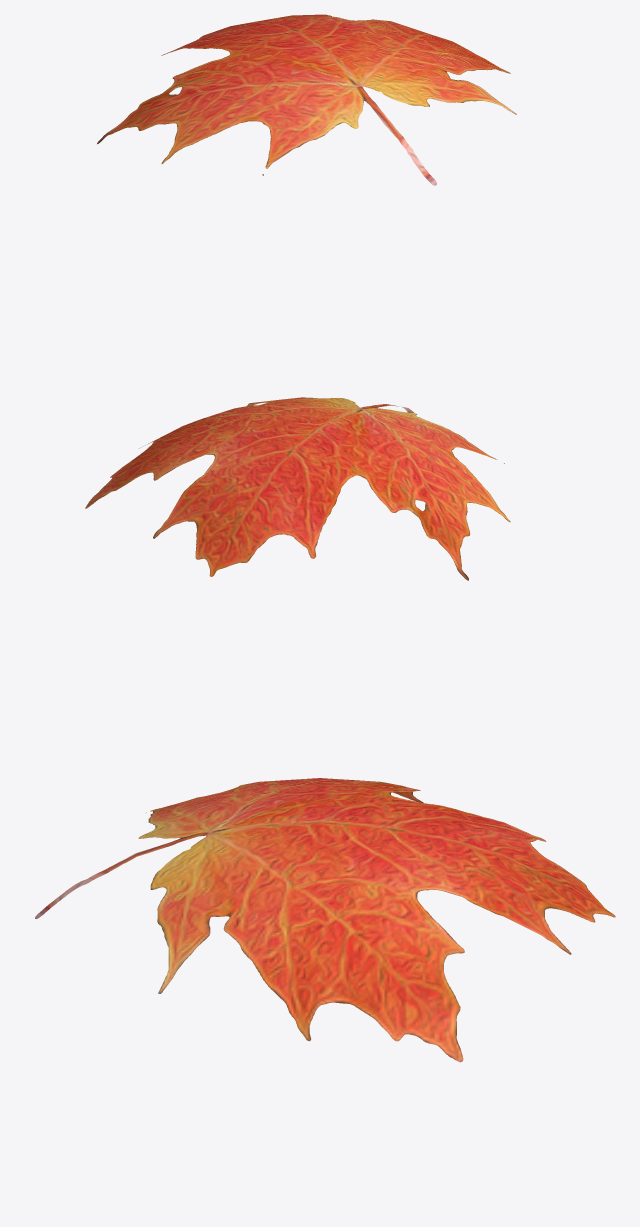
File: single_leaf.fbx
The picture shows the model from 3 angles, top to bottom: view 1: azimuth 30°, elevation 25°; view 2: azimuth 150°, elevation 25°; view 3: azimuth 270°, elevation 25°; orthographic projection. The views are drawn at different scales.
Visible parts, largest first — view 1: leaf_mesh; view 2: leaf_mesh; view 3: leaf_mesh.
Boxes of the visible parts, box(x1,y1,x2,y2) form: leaf_mesh: box(97, 14, 516, 185); leaf_mesh: box(85, 397, 510, 580); leaf_mesh: box(35, 778, 615, 1062).
Size of the model in its own units: 19.8 by 9.38 by 19.8.
Materials: 1 (1 with a texture image).
